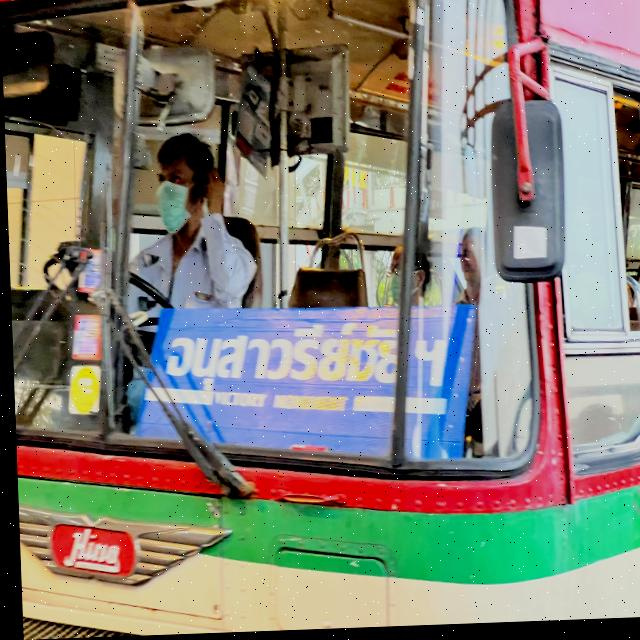Destination Sign: (129, 305, 477, 468)
